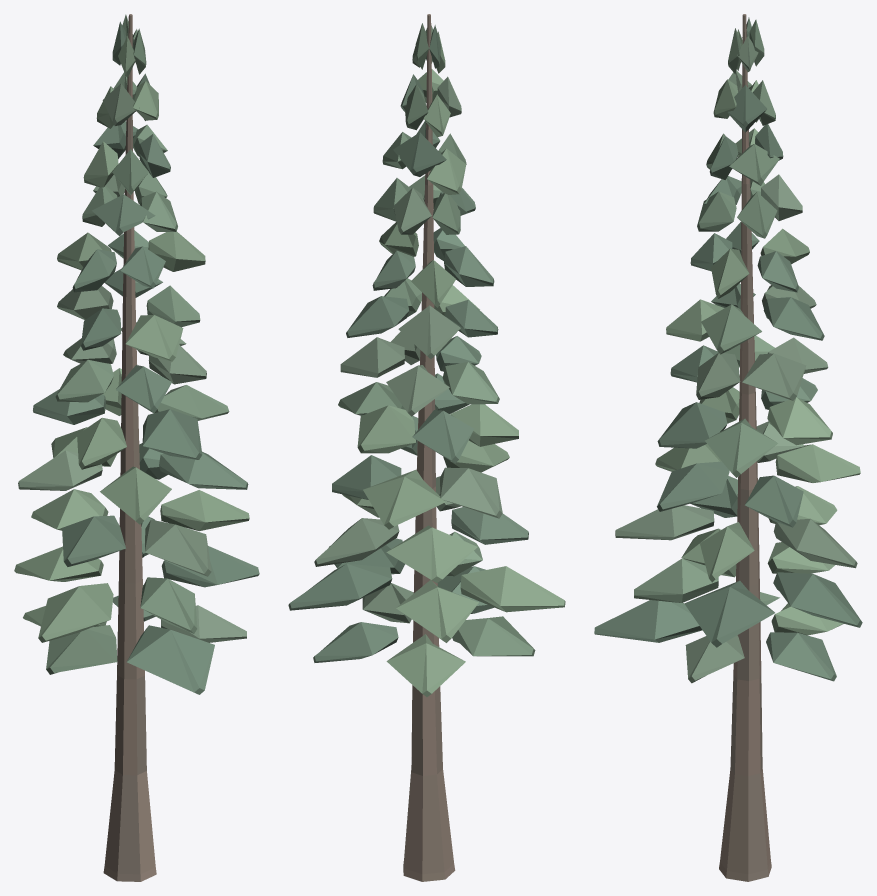
File: pine_tree_001_a_LOD2.gltf
3 views of the same model, side by side, from view 1: azimuth 30°, elevation 25°; view 2: azimuth 150°, elevation 25°; view 3: azimuth 270°, elevation 25° (orthographic).
Visible parts, largest first — view 1: pine_tree_001_a_LOD2; view 2: pine_tree_001_a_LOD2; view 3: pine_tree_001_a_LOD2.
Part boxes in pixels (x1,y1,x2,y2): pine_tree_001_a_LOD2: (14, 14, 259, 881); pine_tree_001_a_LOD2: (288, 14, 565, 881); pine_tree_001_a_LOD2: (594, 14, 862, 881).
Bounding box in the file's own units: 6.32 × 22.64 × 6.44.
